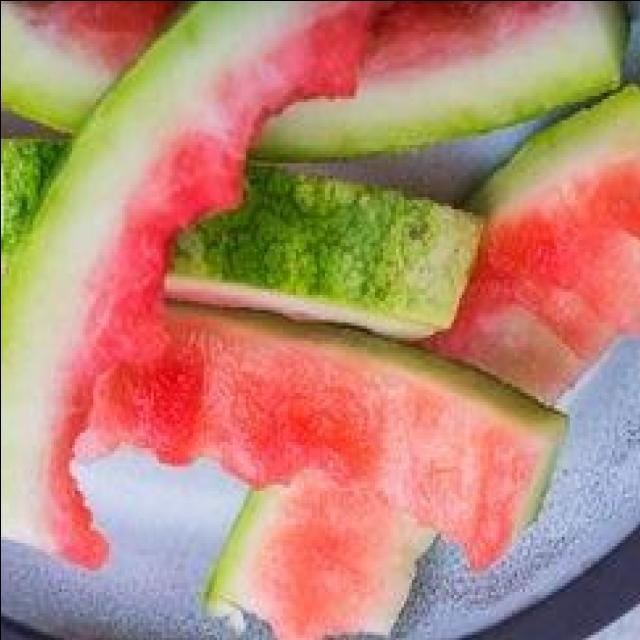-Kitchen waste - fruit-: (7, 0, 374, 567), (108, 313, 556, 555)
